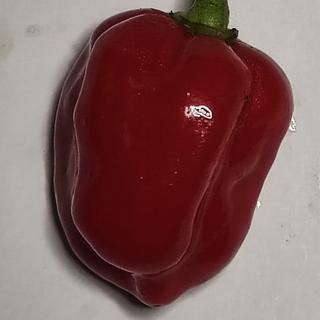Grade-A: (40, 3, 299, 310)
